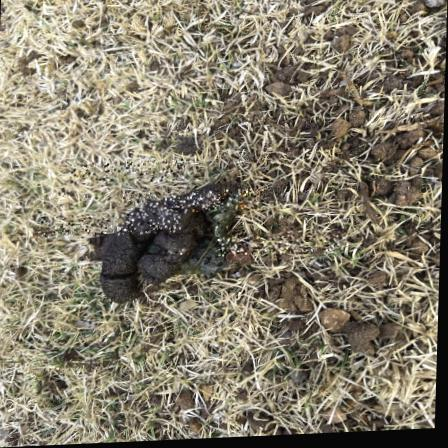dog-poop: (87, 178, 224, 317)
